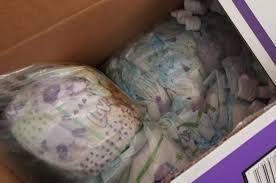paper: (2, 59, 152, 180)
